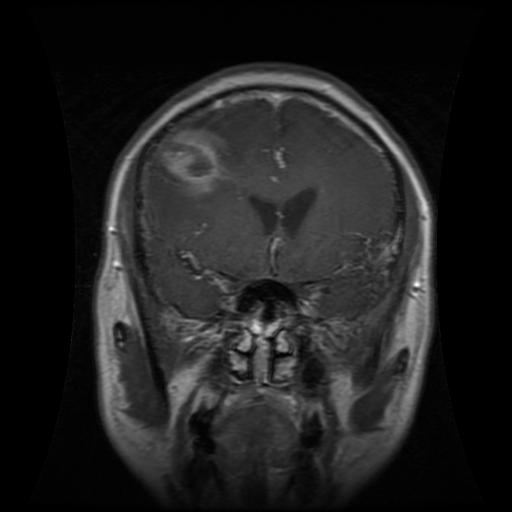Gliomia_tumour: (147, 114, 245, 197)
